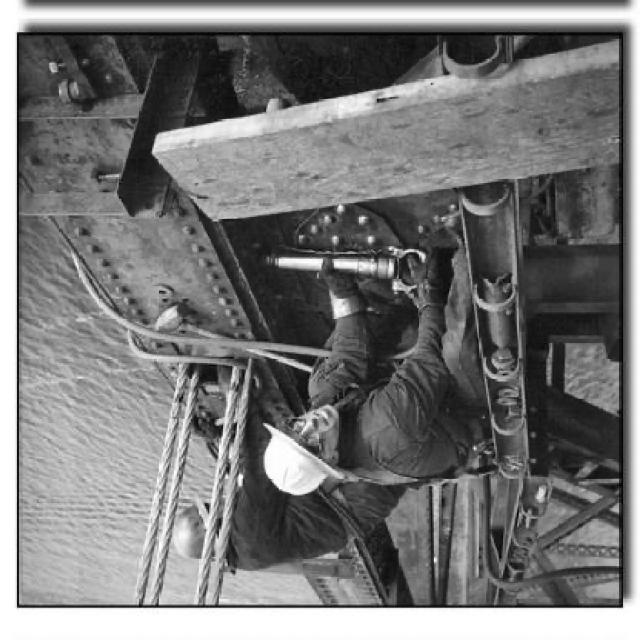con casco: (114, 453, 256, 582), (258, 402, 403, 491)
